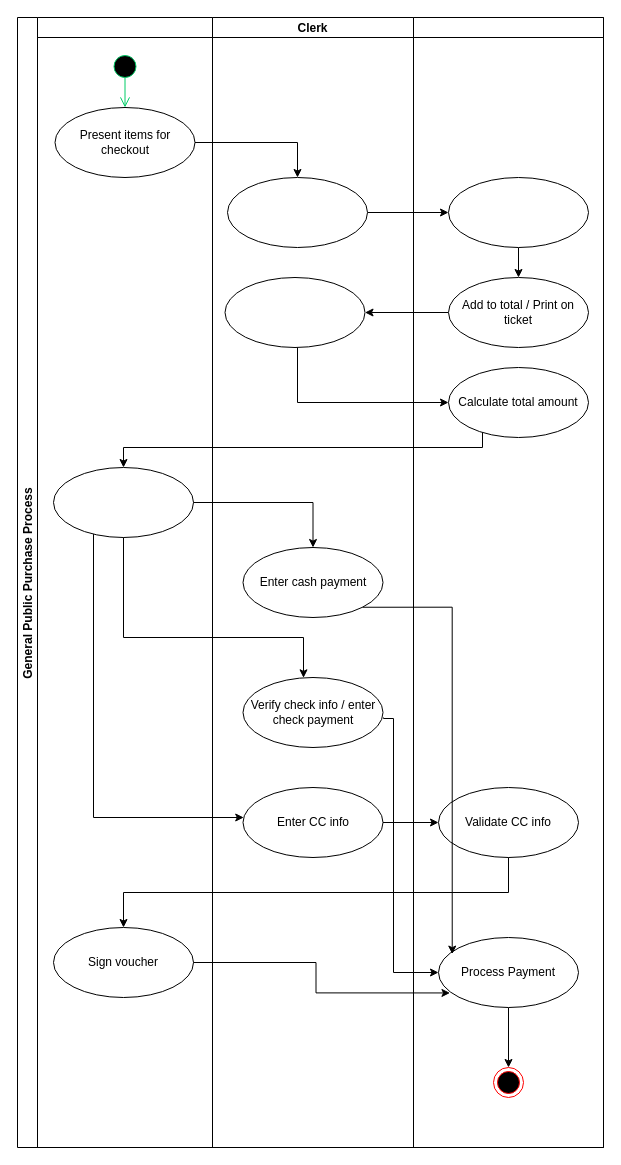
Image size: 621x1165. Some labels were removed from this diagram. Each missing label, with the box of its shape:
Cash Customer: (36, 16, 212, 1148)
Clerk enters items into the cash register.: (226, 176, 368, 248)
End of Sale: (224, 276, 365, 348)
Find item / Display price, description: (448, 176, 588, 248)
Provide Payment: (52, 466, 194, 538)
System: (412, 16, 604, 1148)
